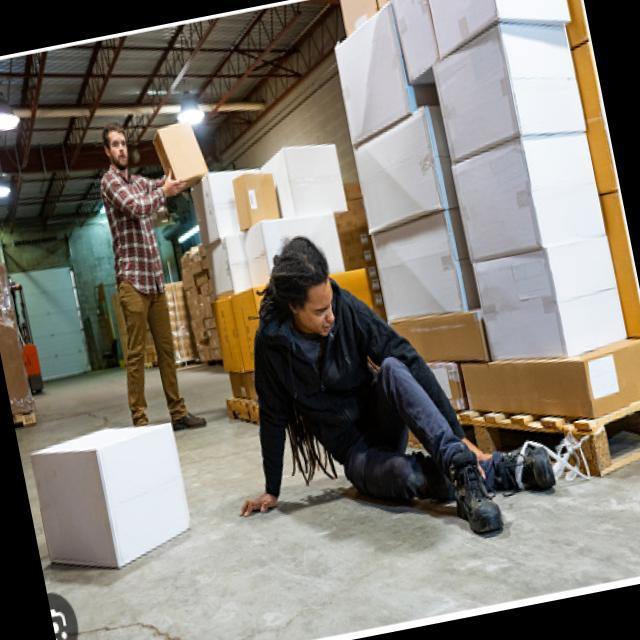boots: (441, 430, 566, 545)
